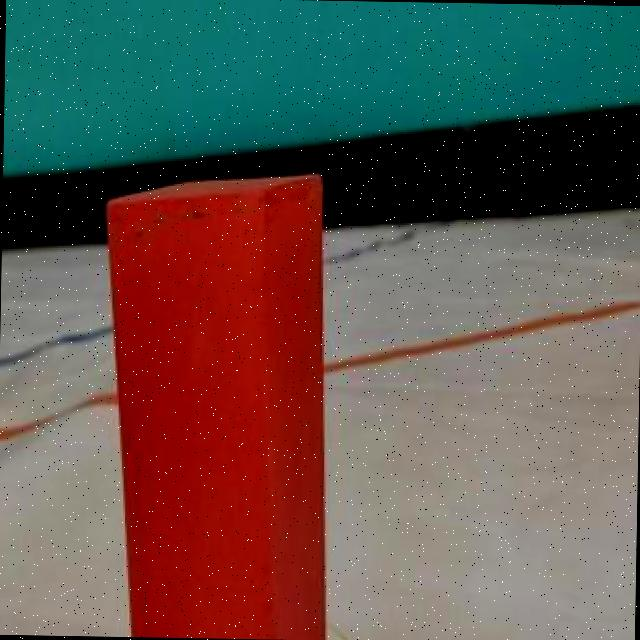redbox: (102, 168, 333, 640)
